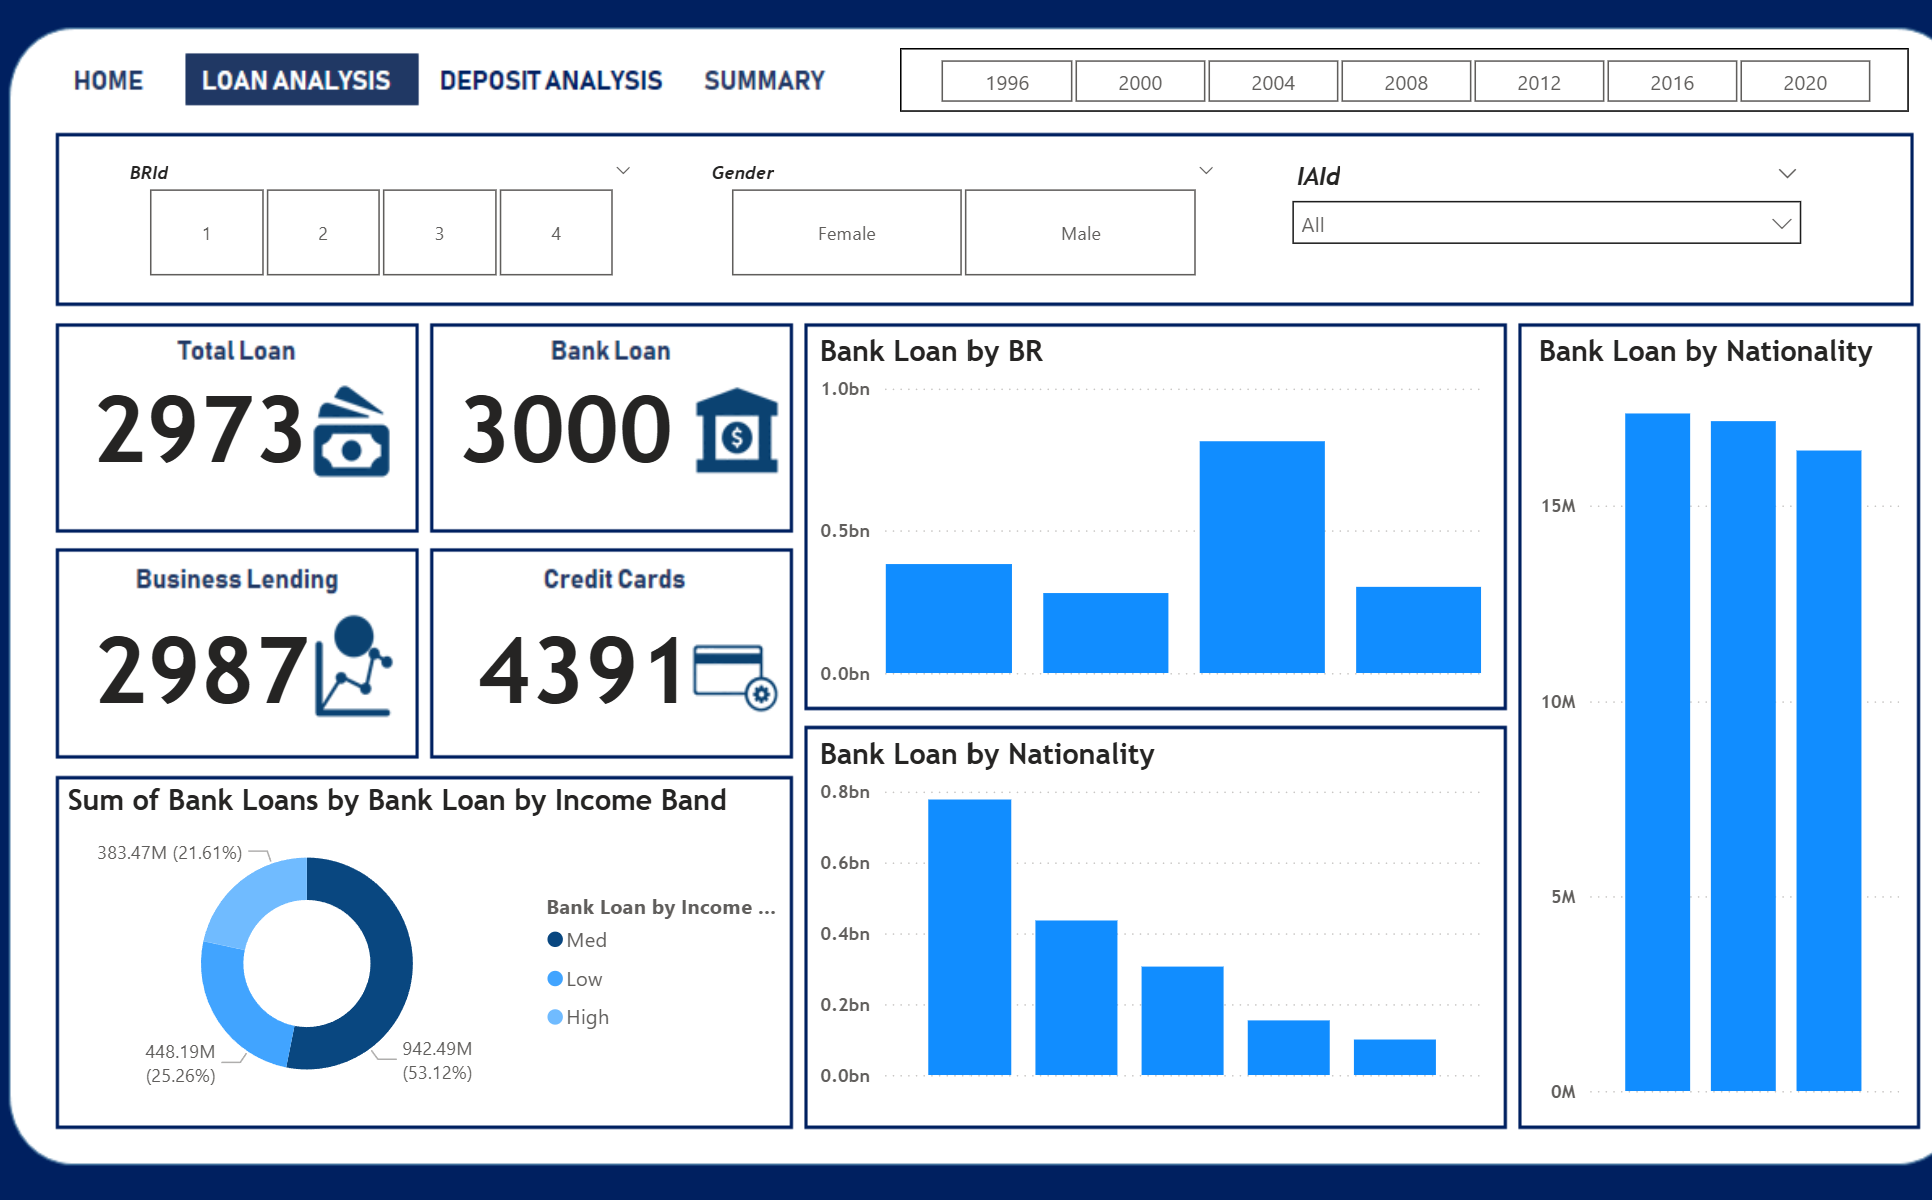

This screenshot's page, from the dashboard's own definition file:
{"tool":"powerbi","page":{"name":"Loan Analysis","canvas":[1280,800],"ordinal":1},"visuals":[{"type":"actionButton","box":[62.4,49.4,65,40.3],"z":0},{"type":"actionButton","box":[307,50.7,152.2,40.3],"z":1000},{"type":"actionButton","box":[473.5,52,93.7,40.3],"z":2000},{"type":"card","fields":{"Values":["Count(Banking_Clients.Bank Loans)"]},"box":[62.4,255,182.1,75.4],"z":3000},{"type":"card","fields":{"Values":["CountNonNull(Banking_Clients.Bank Loans)"]},"box":[294,255,193.8,75.4],"z":4000},{"type":"card","fields":{"Values":["Count(Banking_Clients.Business Lending)"]},"box":[74.1,411.1,160,75.4],"z":5000},{"type":"card","fields":{"Values":["Sum(Banking_Clients.Amount of Credit Cards)"]},"box":[307,411.1,193.8,75.4],"z":6000},{"type":"donutChart","fields":{"Category":["Banking_Clients.Income Band"],"Y":["Sum(Banking_Clients.Bank Loans)"]},"box":[62.4,526.8,472.2,213.3],"z":7000},{"type":"clusteredColumnChart","title":"Bank Loan by BR","fields":{"Category":["Banking Relationship.BRId"],"Y":["Sum(Banking_Clients.Bank Loans)"]},"box":[551.5,235.4,439.7,232.8],"z":8000},{"type":"clusteredColumnChart","title":"Bank Loan by Nationality","fields":{"Y":["Sum(Banking_Clients.Bank Loans)"],"Category":["Banking_Clients.Nationality"]},"box":[551.5,496.9,439.7,232.8],"z":9000},{"type":"clusteredColumnChart","title":"Bank Loan by Nationality","fields":{"Y":["Sum(Banking_Clients.Bank Loans)"],"Category":["Banking_Clients.Occupation"]},"box":[1018.5,235.4,244.6,504.7],"z":10000},{"type":"slicer","fields":{"Values":["Banking Relationship.BRId"]},"box":[95,118.4,351.2,85.9],"z":11000},{"type":"slicer","fields":{"Values":["Gender.Gender"]},"box":[473.5,118.4,351.2,85.9],"z":12000},{"type":"slicer","fields":{"Values":["Banking_Clients.IAId"]},"box":[853.3,118.4,351.2,85.9],"z":13000},{"type":"slicer","fields":{"Values":["Banking_Clients.Joined Bank.Variation.Date Hierarchy.Year"]},"box":[608.8,49.4,655.6,41.6],"z":14000}]}

Visuals, with their boxes in screenshot pixels (x1, y1, x2, y2), scaled from the page's 1280x800 canvas onto the 1932x1200 screenshot:
actionButton: [94,74,192,135]
actionButton: [463,76,693,136]
actionButton: [715,78,856,138]
card - Count(Banking_Clients.Bank Loans): [94,382,369,496]
card - CountNonNull(Banking_Clients.Bank Loans): [444,382,736,496]
card - Count(Banking_Clients.Business Lending): [112,617,353,730]
card - Sum(Banking_Clients.Amount of Credit Cards): [463,617,756,730]
donutChart - Banking_Clients.Income Band x Sum(Banking_Clients.Bank Loans): [94,790,807,1110]
"Bank Loan by BR" clusteredColumnChart: [832,353,1496,702]
"Bank Loan by Nationality" clusteredColumnChart: [832,745,1496,1095]
"Bank Loan by Nationality" clusteredColumnChart: [1537,353,1906,1110]
slicer - Banking Relationship.BRId: [143,178,673,306]
slicer - Gender.Gender: [715,178,1245,306]
slicer - Banking_Clients.IAId: [1288,178,1818,306]
slicer - Banking_Clients.Joined Bank.Variation.Date Hierarchy.Year: [919,74,1908,136]
